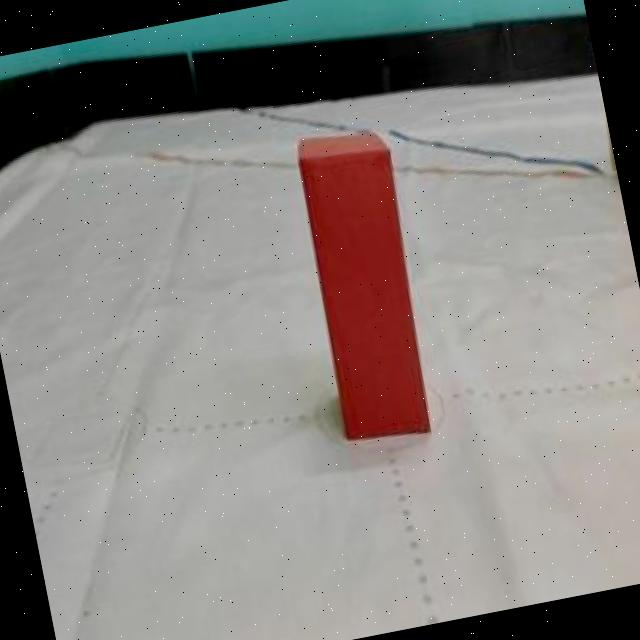redbox: (292, 121, 444, 448)
